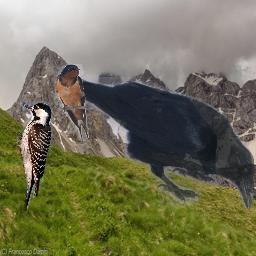Crow: (62, 77, 254, 209)
Swallow: (55, 64, 89, 141)
Woodpecker: (16, 100, 53, 215)
